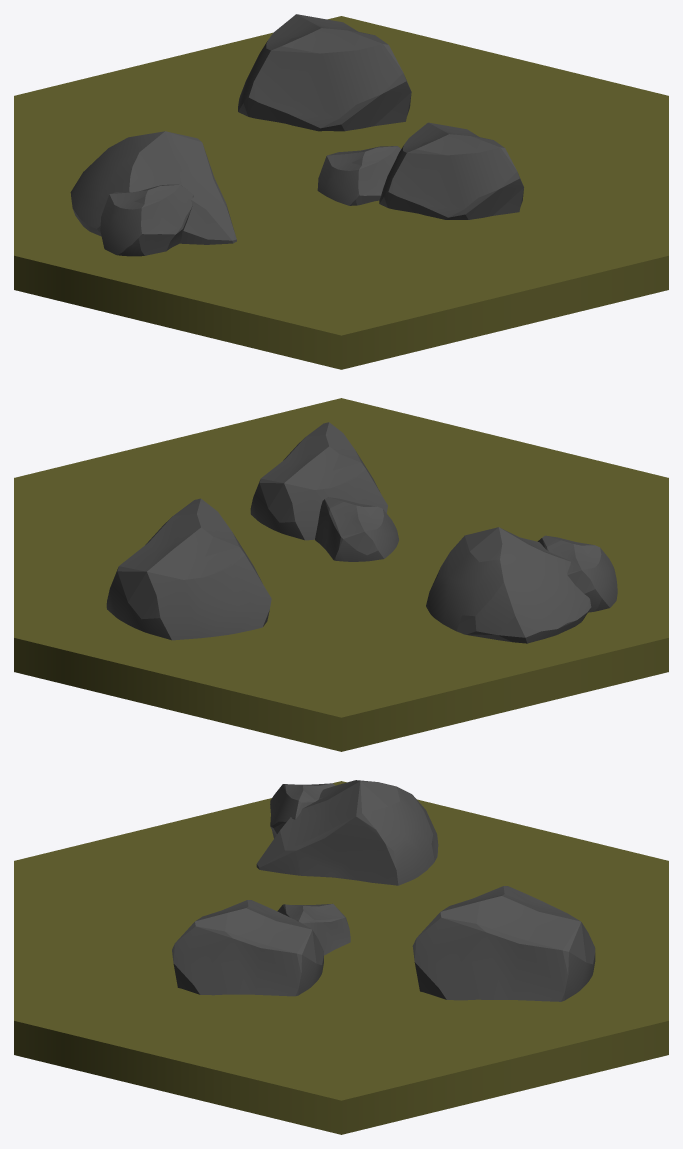
The model's file is Tile_13.FBX.
The picture shows the model from 3 angles, top to bottom: view 1: azimuth 30°, elevation 25°; view 2: azimuth 150°, elevation 25°; view 3: azimuth 270°, elevation 25°; orthographic projection.
Visible parts, largest first — view 1: Ground; view 2: Ground; view 3: Ground.
Part boxes in pixels (<box>): Ground: <box>14,14,668,369</box>; Ground: <box>14,398,668,751</box>; Ground: <box>14,780,668,1134</box>.
Size of the model in its own units: 39.37 by 9.43 by 34.1.
